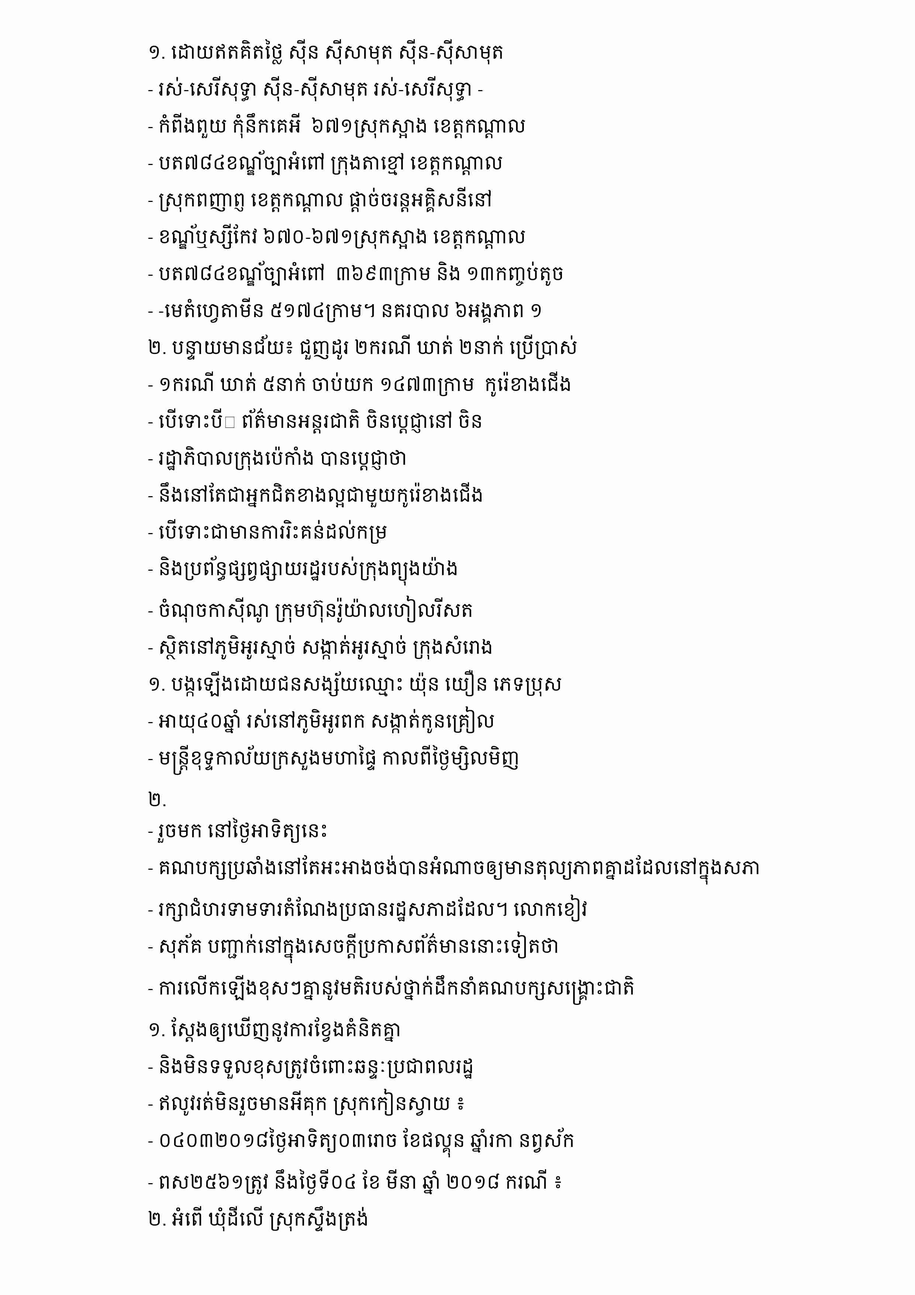text: (148, 855, 765, 885), (148, 975, 640, 1005), (148, 1127, 580, 1158), (148, 931, 564, 963), (148, 894, 593, 922), (148, 670, 567, 697), (148, 334, 583, 360), (148, 745, 525, 775), (148, 371, 577, 397), (148, 1169, 568, 1195), (148, 261, 569, 286), (148, 298, 548, 323), (148, 706, 500, 734), (148, 113, 531, 138), (148, 224, 531, 249), (148, 556, 463, 586), (148, 39, 509, 65), (148, 595, 479, 623), (148, 150, 508, 175), (148, 76, 488, 102), (148, 408, 488, 434), (148, 482, 488, 508), (148, 635, 498, 660), (148, 187, 497, 212), (148, 1089, 471, 1116), (148, 1054, 479, 1079), (148, 446, 412, 471), (148, 1017, 406, 1042), (148, 519, 393, 544), (148, 1206, 374, 1232), (148, 818, 333, 843), (148, 791, 172, 806)
